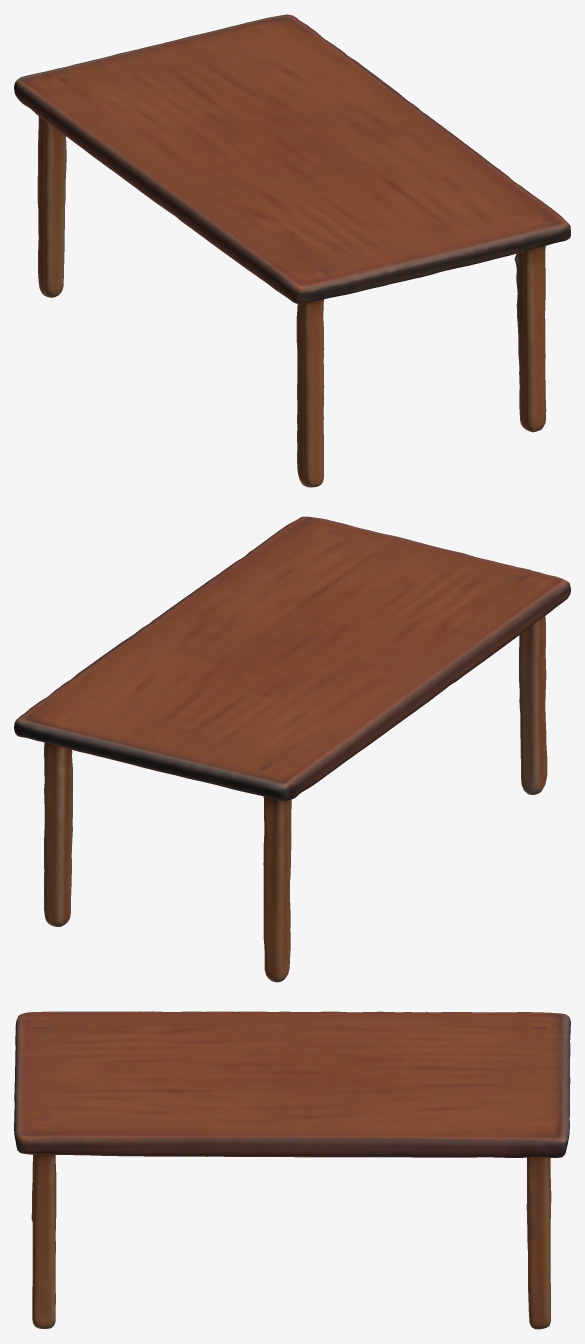
Rendered from table.glb.
3 views of the same model, one above another, from view 1: azimuth 30°, elevation 25°; view 2: azimuth 150°, elevation 25°; view 3: azimuth 270°, elevation 25° (orthographic). The views are drawn at different scales.
Parts seen in each view (by area): view 1: mesh; view 2: mesh; view 3: mesh.
Boxes of the visible parts, box(x1,y1,x2,y2) form: mesh: box(14, 14, 570, 487); mesh: box(14, 516, 570, 982); mesh: box(14, 1011, 570, 1329).
Bounding box in the file's own units: 0.5603 × 0.4076 × 0.9995.
Materials: 1 (1 with a texture image).
